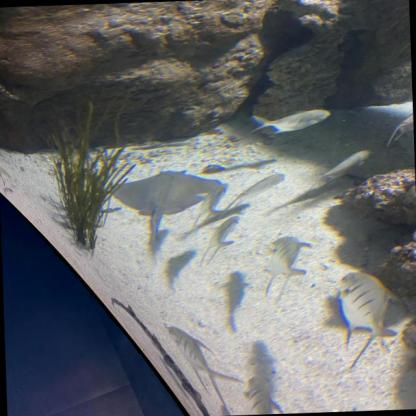fish: (333, 270, 400, 348), (256, 234, 317, 298), (214, 169, 288, 220), (301, 146, 372, 195), (245, 108, 333, 136), (188, 180, 231, 235), (198, 213, 242, 266), (386, 104, 414, 149)
stingray: (106, 168, 220, 219)
